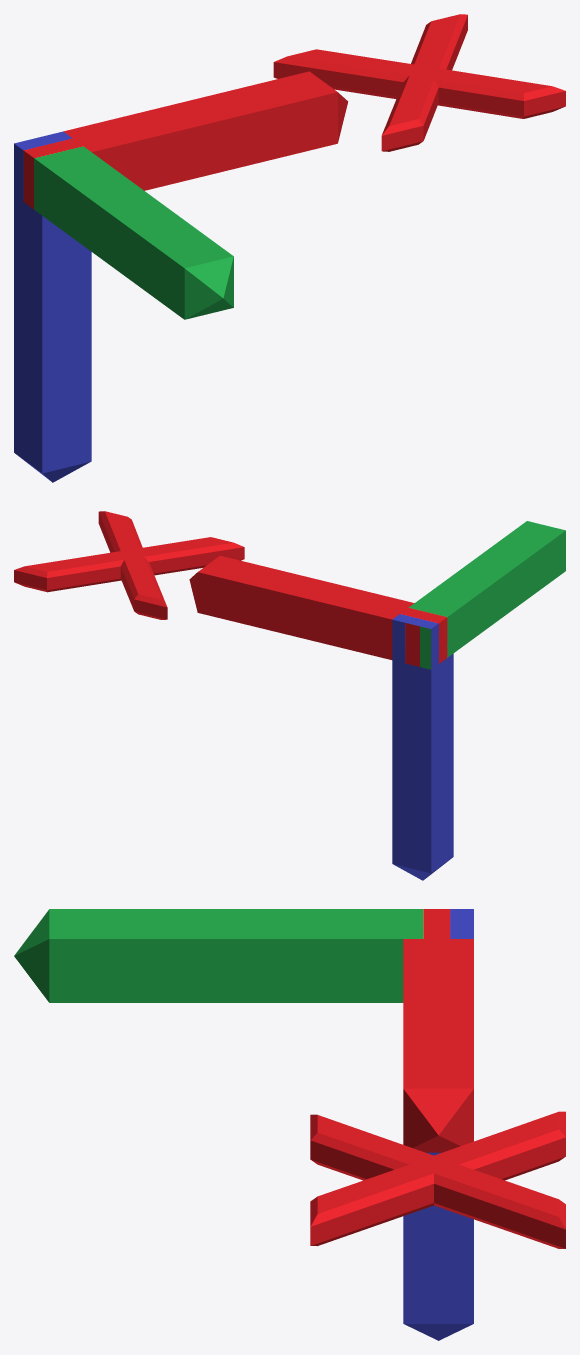
File: repere.obj
3 renders of one model, top to bottom at view 1: azimuth 30°, elevation 25°; view 2: azimuth 150°, elevation 25°; view 3: azimuth 270°, elevation 25°, orthographic. The views are drawn at different scales.
Visible parts, largest first — view 1: Cube, Text_CUX; view 2: Cube, Text_CUX; view 3: Cube, Text_CUX.
Boxes of the visible parts, box(x1,y1,x2,y2) form: Cube: box(14, 71, 348, 482); Text_CUX: box(273, 14, 565, 151); Cube: box(189, 521, 565, 880); Text_CUX: box(14, 511, 244, 619); Cube: box(14, 909, 473, 1340); Text_CUX: box(310, 1111, 565, 1248).
Size of the model in its own units: 1.99 by 1.3 by 1.56.
